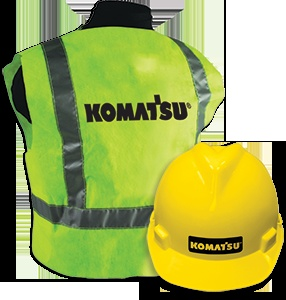helmet: (154, 147, 281, 290)
safety vest: (9, 24, 208, 283)
